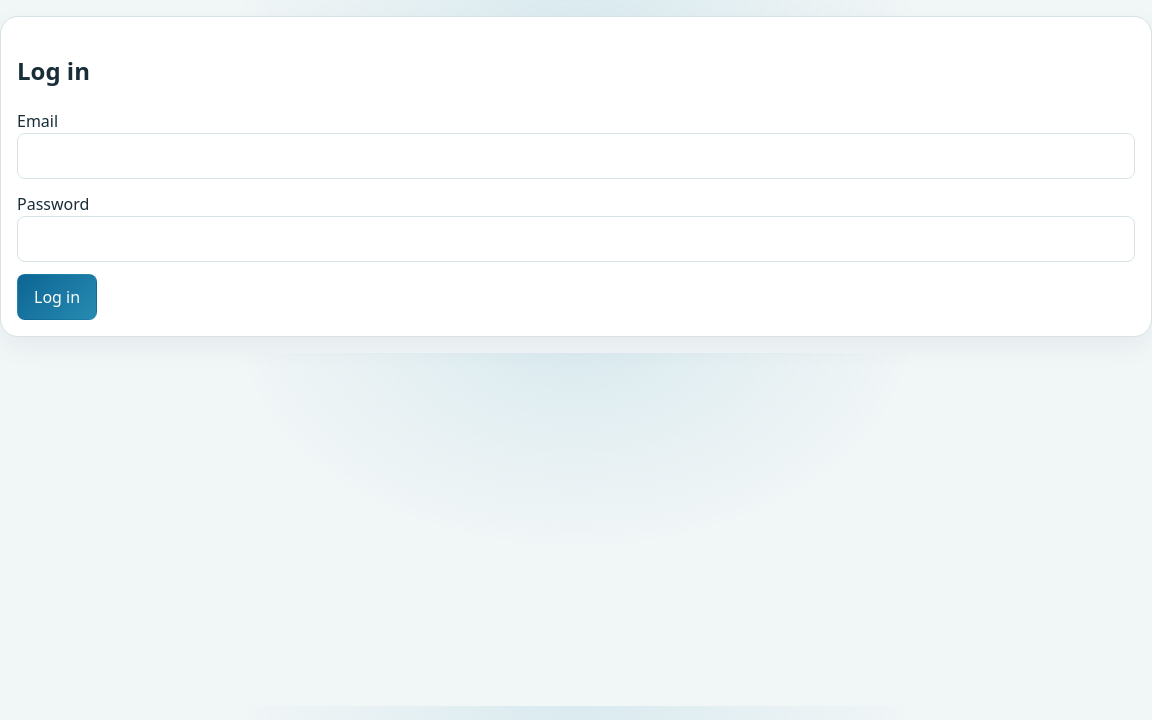
form validation › login form submits valid values and shows server errors
Type "a@b.com" into the field labelled "Email". click: (576, 156)
box: [17,133,1135,179]
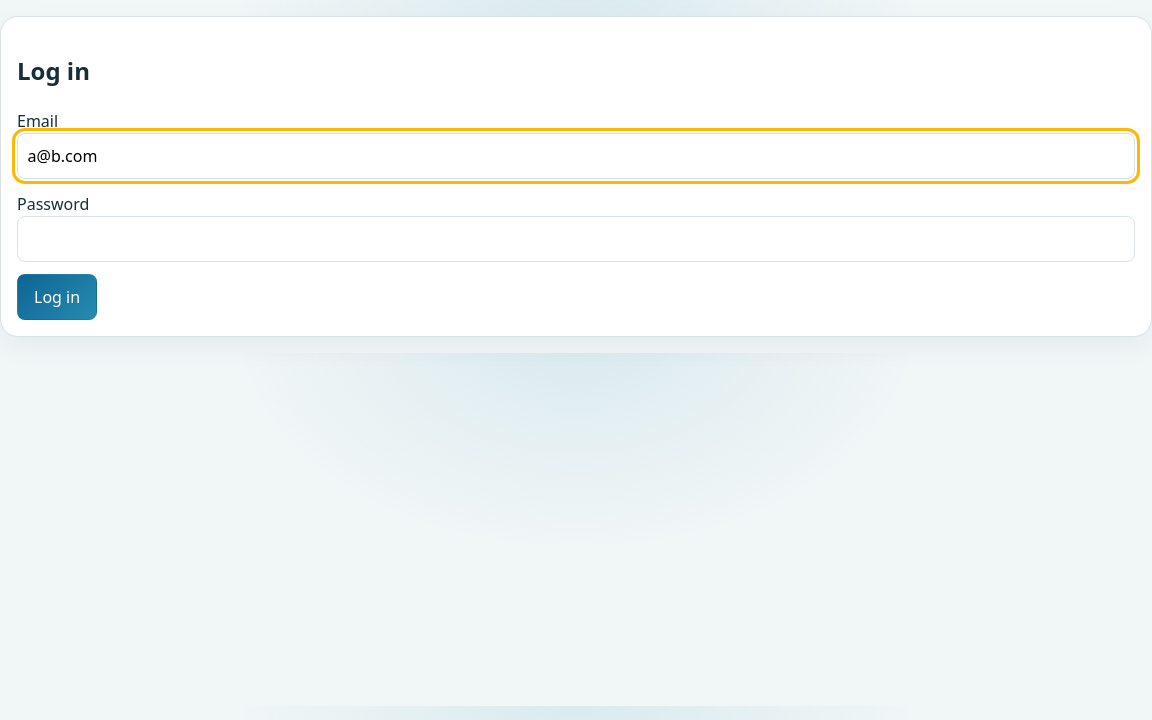
Type "secret123" into the password field labelled "Password". click: (576, 239)
box: [17,216,1135,262]
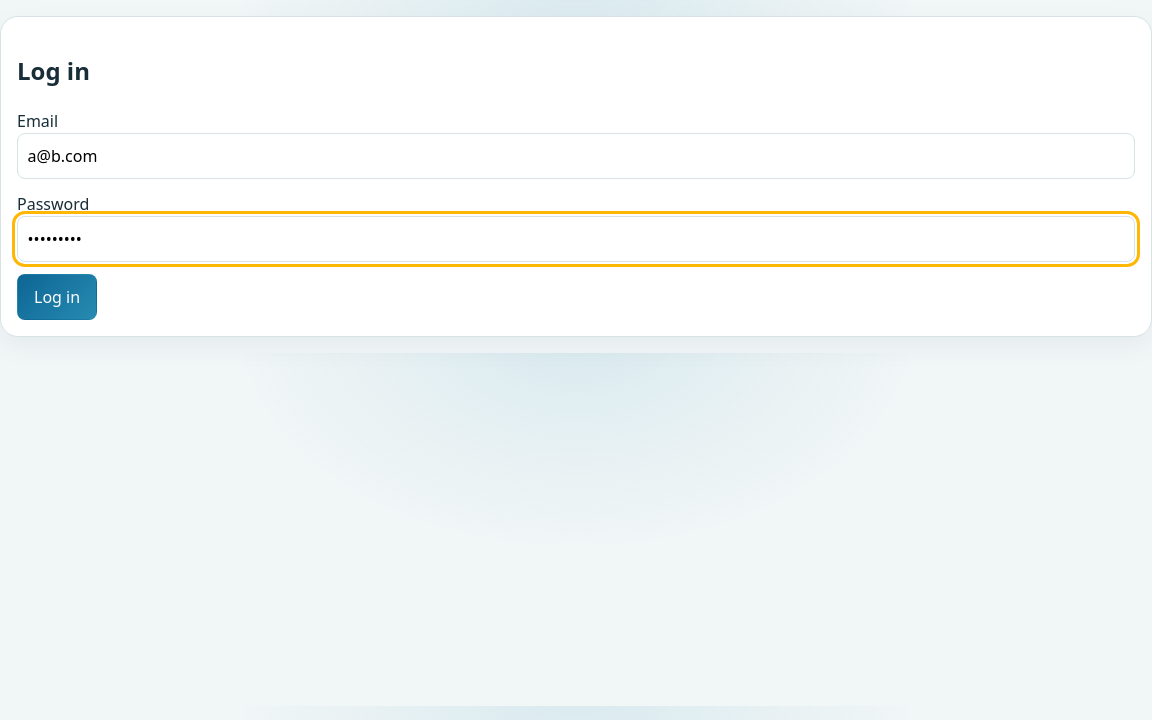
Click the button "Log in". click: (57, 297)
box: [17,274,97,320]
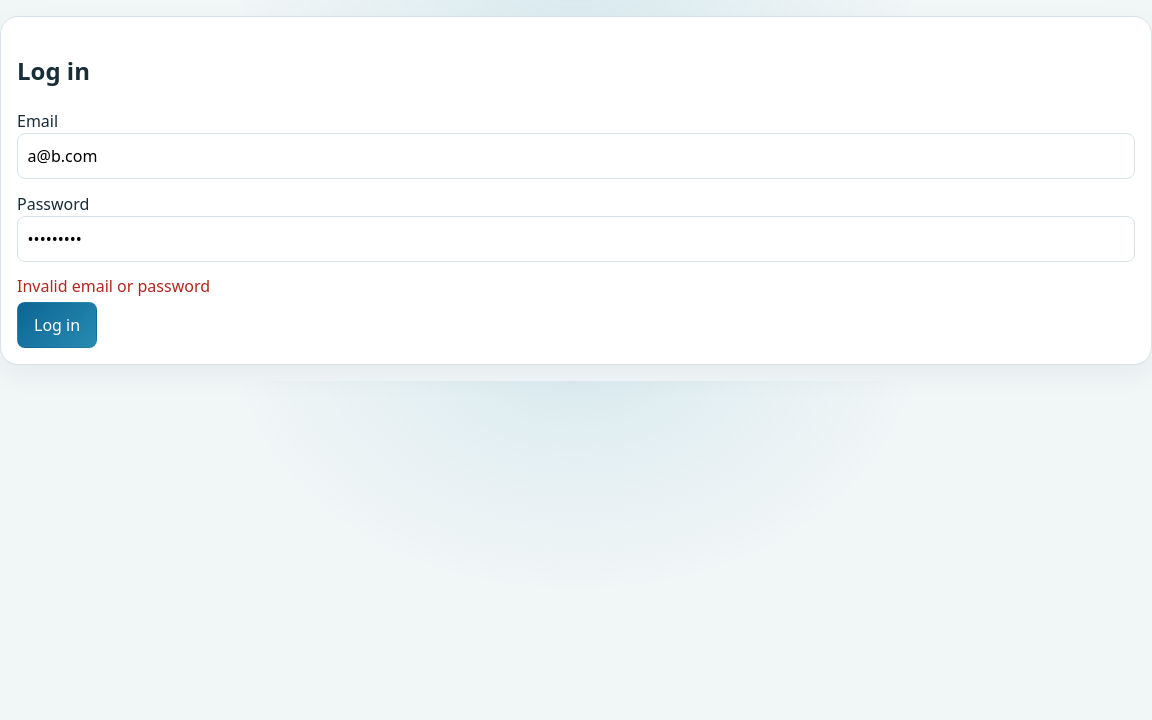
Check: the text "Invalid email or password" is shown, box [17,275,210,297]
